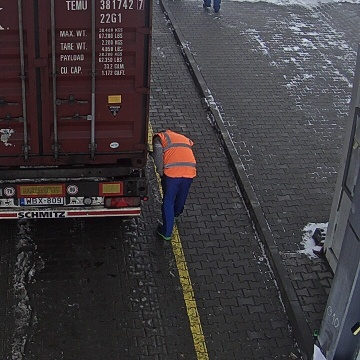serial_id: (66, 0, 143, 10)
